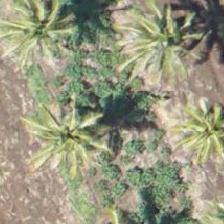Kelapa_Sawit: (32, 87, 122, 177), (127, 0, 217, 89), (0, 0, 90, 77), (171, 92, 223, 183)
